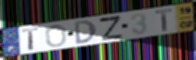3: (130, 12, 150, 36)
D: (73, 19, 98, 45)
O: (44, 24, 68, 48)
T: (154, 8, 174, 33), (21, 27, 41, 51)
Z: (98, 15, 124, 41)
